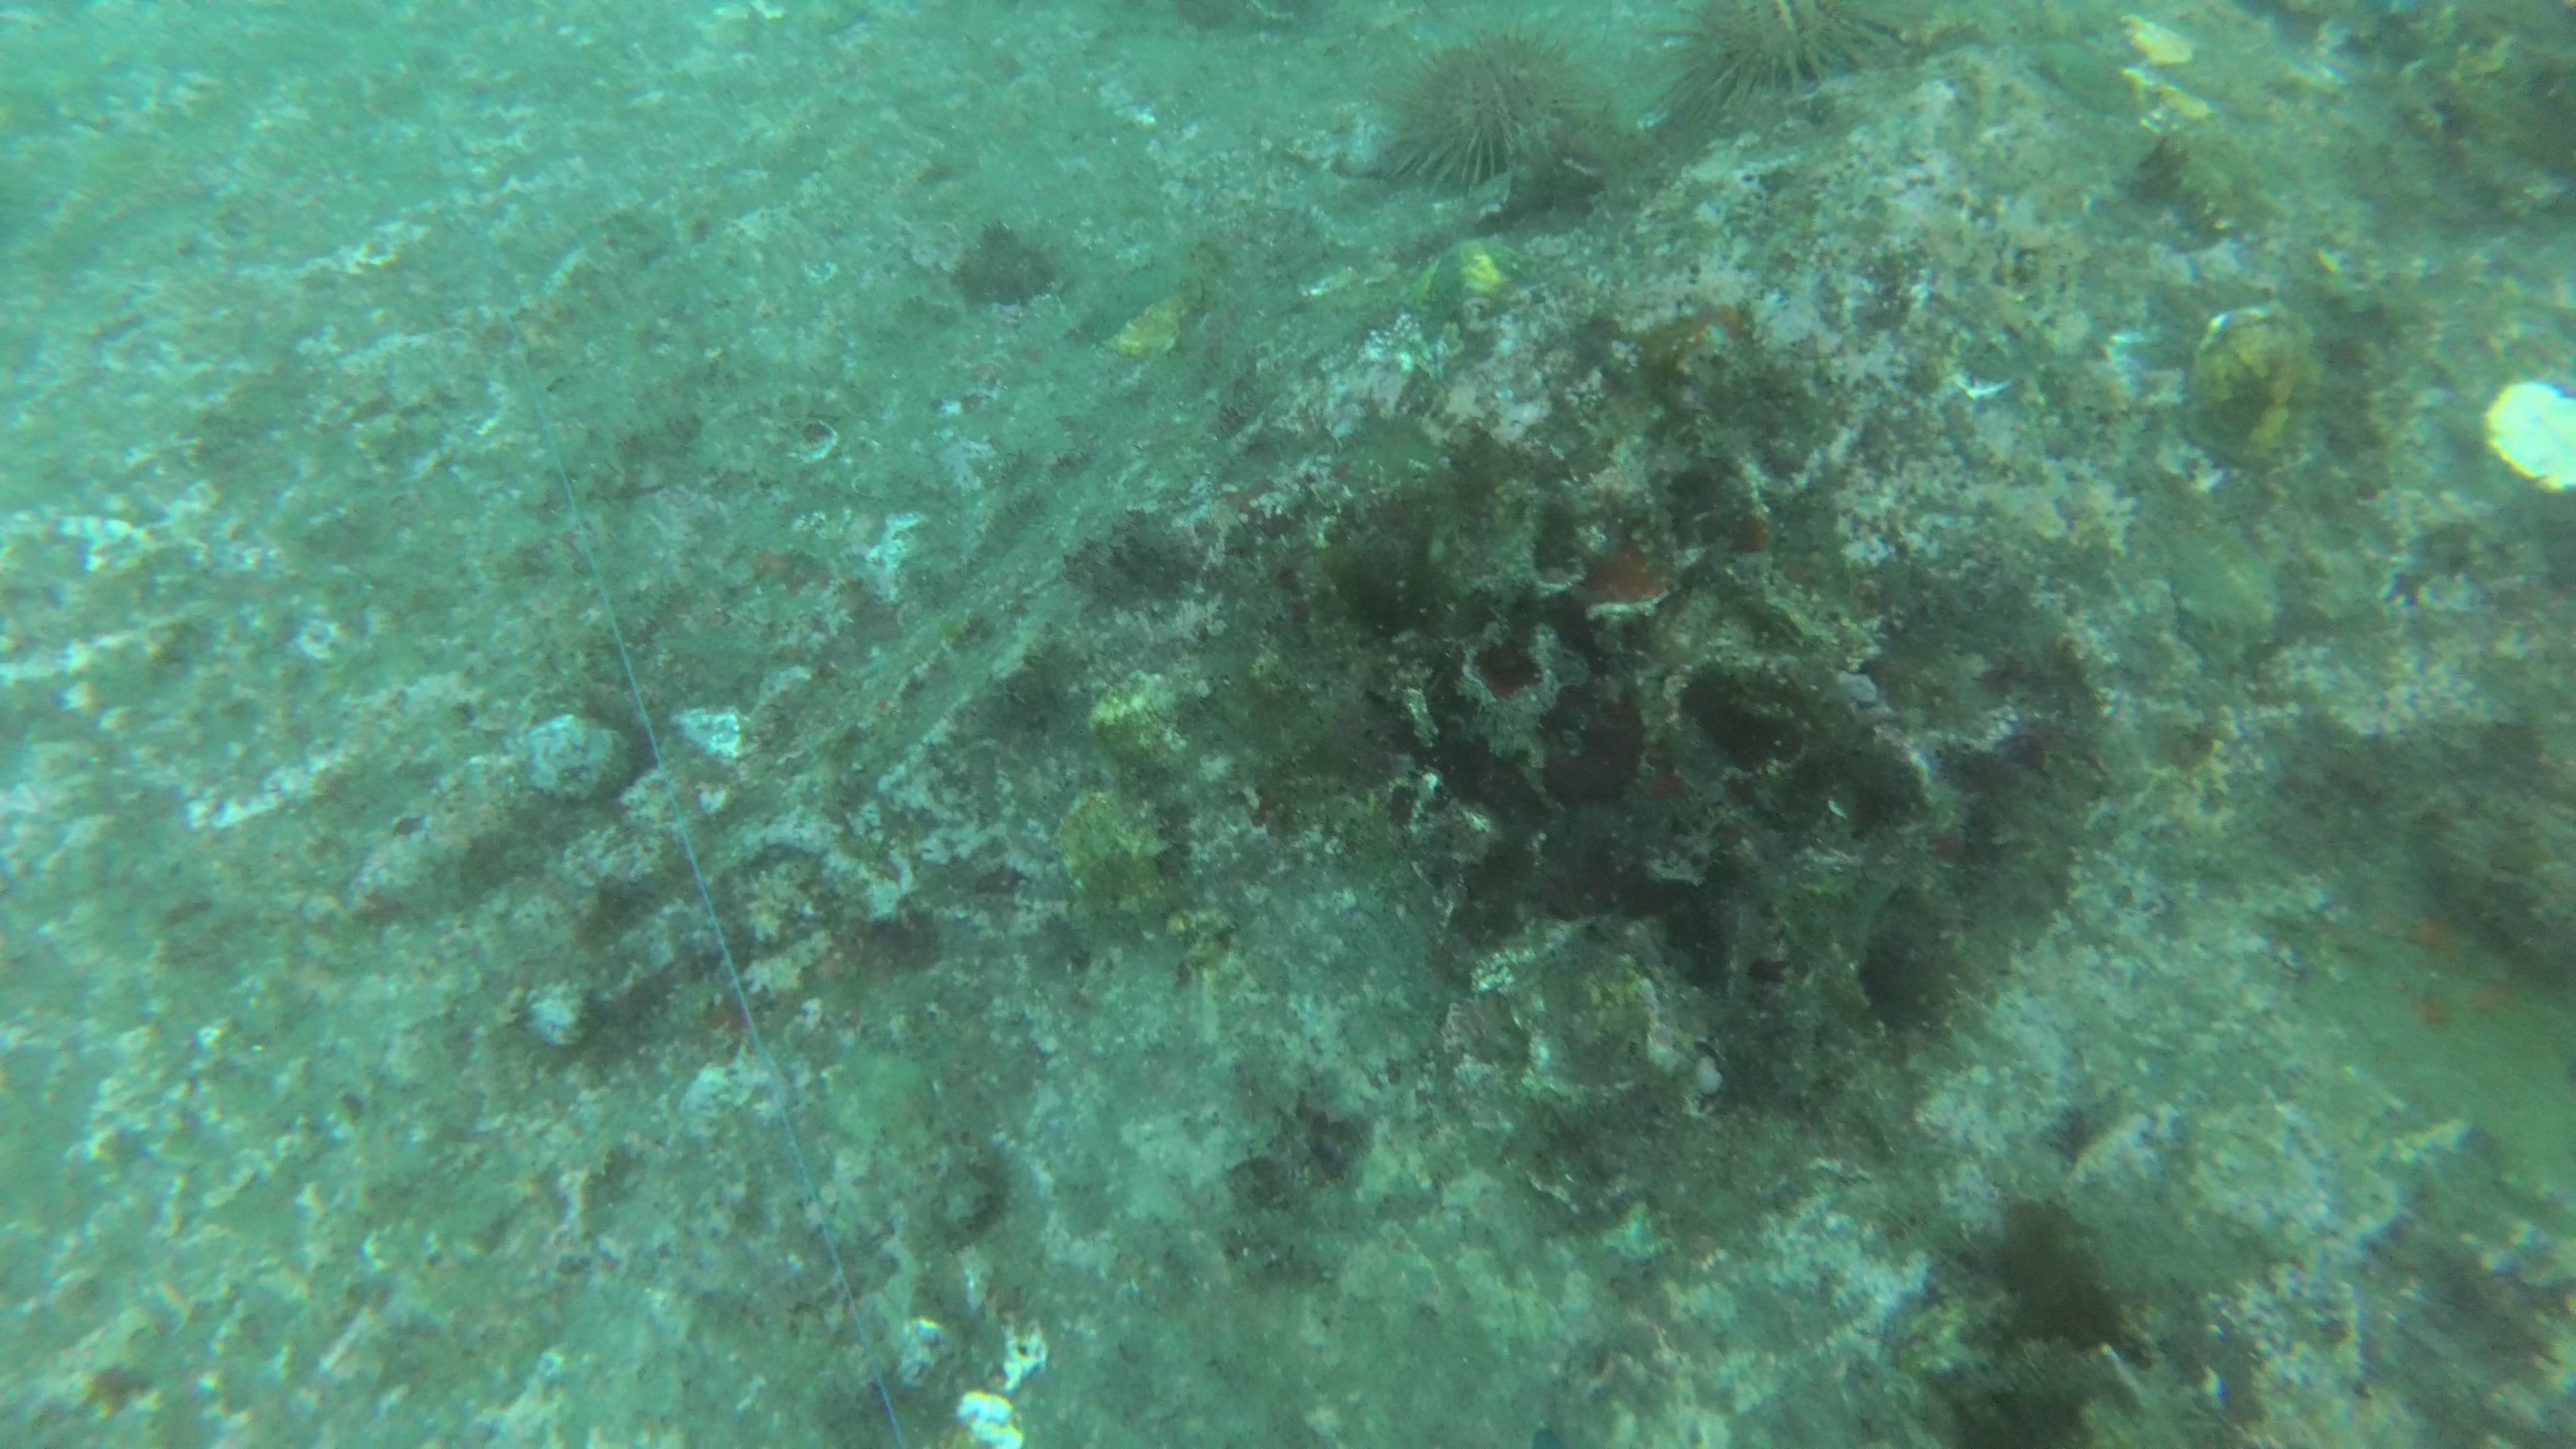echinus: (1357, 25, 1596, 193), (1683, 5, 1900, 99)
scallop: (2185, 306, 2318, 478), (2112, 16, 2227, 152), (1407, 235, 1527, 322)
